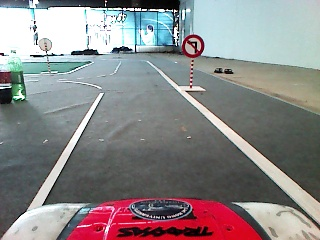ban: (178, 32, 208, 62)
